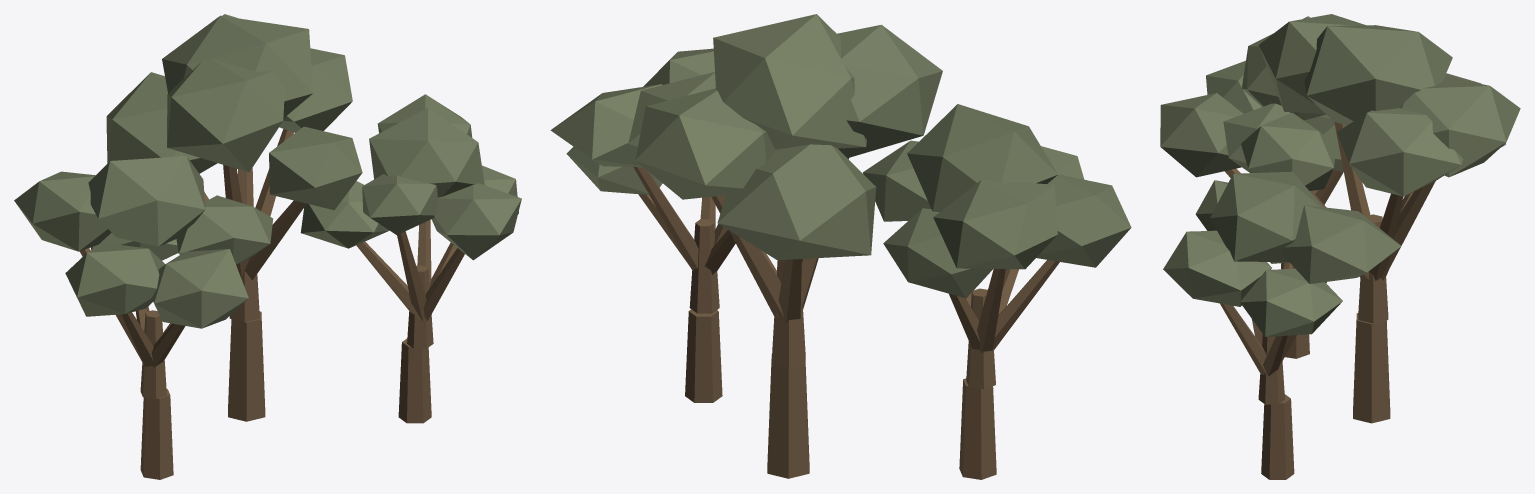
File: K12c_far.glb
The picture shows the model from 3 angles, left to right: view 1: azimuth 30°, elevation 25°; view 2: azimuth 150°, elevation 25°; view 3: azimuth 270°, elevation 25°; orthographic projection. The views are drawn at different scales.
Visible parts, largest first — view 1: K12c_far; view 2: K12c_far; view 3: K12c_far.
Part boxes in pixels (<box>): K12c_far: <box>14,14,521,479</box>; K12c_far: <box>550,14,1131,479</box>; K12c_far: <box>1160,14,1520,479</box>.
Bounding box in the file's own units: 13.64 × 10.92 × 9.22.
